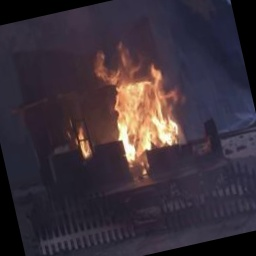fire: (90, 31, 196, 177)
